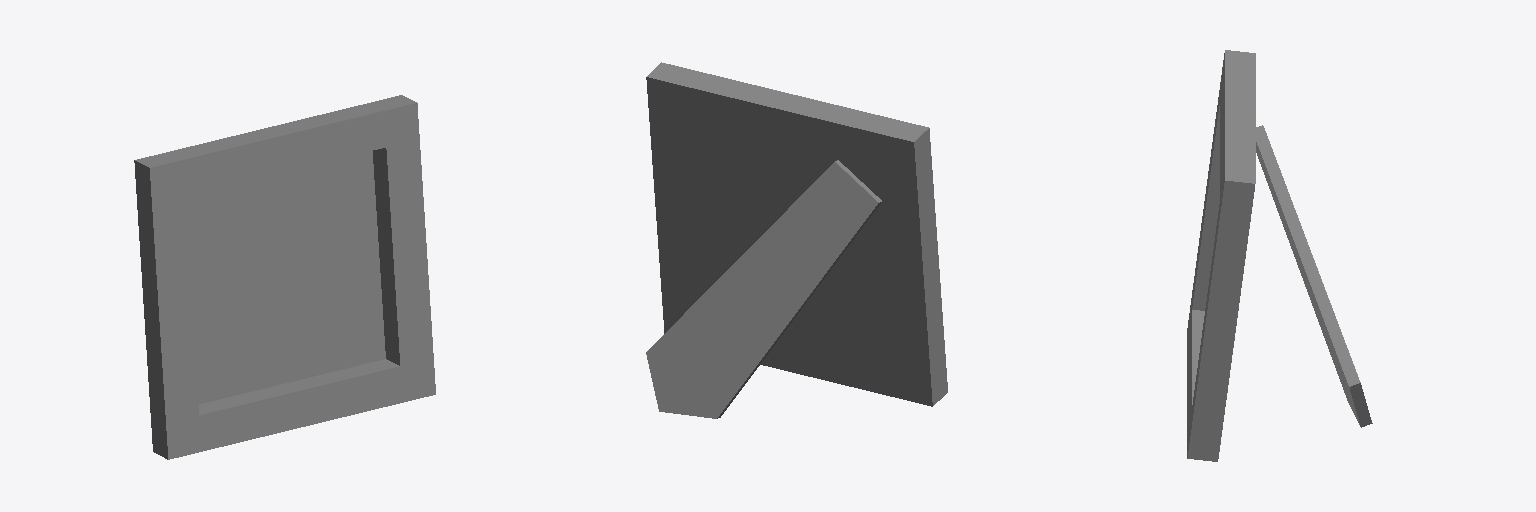
Rendered from kepkeret.obj.
The picture shows the model from 3 angles: view 1: azimuth 30°, elevation 25°; view 2: azimuth 150°, elevation 25°; view 3: azimuth 270°, elevation 25°; orthographic projection.
Parts seen in each view (by area): view 1: Box001; view 2: Box001, NGon001; view 3: Box001, NGon001.
Part boxes in pixels (x1,y1,x2,y2): Box001: (134, 95, 435, 459); Box001: (646, 62, 947, 406); NGon001: (646, 160, 881, 418); Box001: (1187, 50, 1255, 461); NGon001: (1256, 125, 1372, 427).
Bounding box in the file's own units: 10 × 10.05 × 5.99.